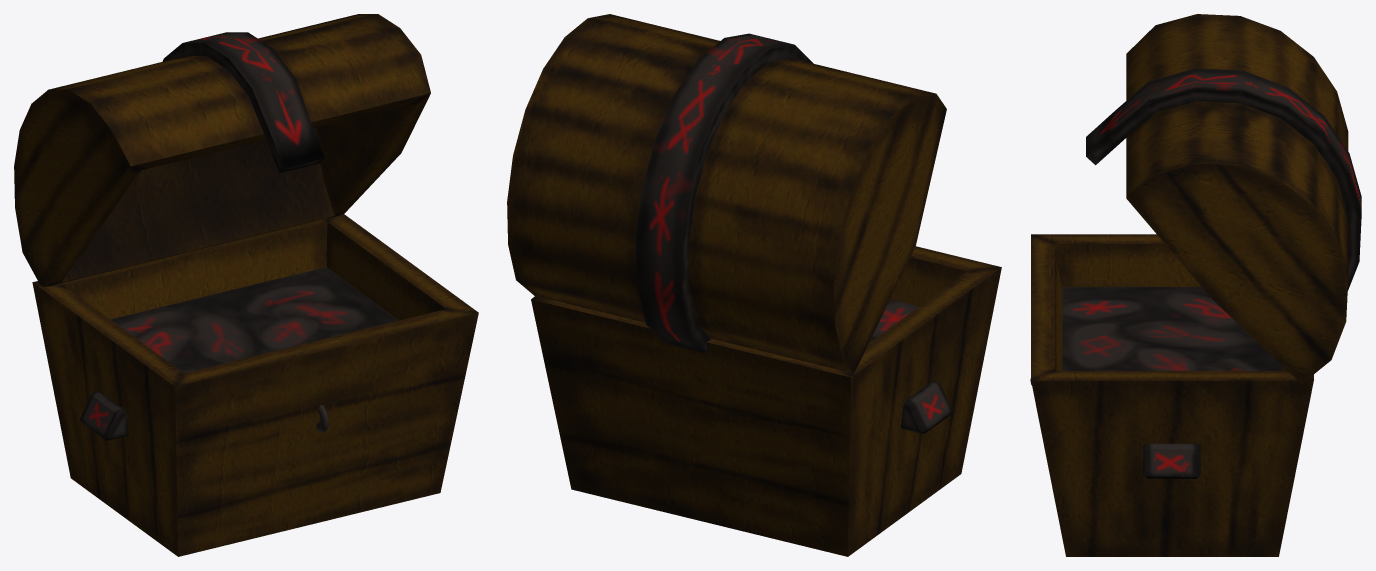
Rendered from 5-5_Frukt.fbx.
3 views of the same model, side by side, from view 1: azimuth 30°, elevation 25°; view 2: azimuth 150°, elevation 25°; view 3: azimuth 270°, elevation 25° (orthographic). The views are drawn at different scales.
Parts seen in each view (by area): view 1: persp2; view 2: persp2; view 3: persp2.
Boxes of the visible parts, x1,y1,x2,y2 form: persp2: (14, 14, 478, 556); persp2: (507, 14, 1001, 556); persp2: (1030, 14, 1361, 556).
Size of the model in its own units: 36.49 by 44.64 by 32.05.
1 material, 1 textured.
